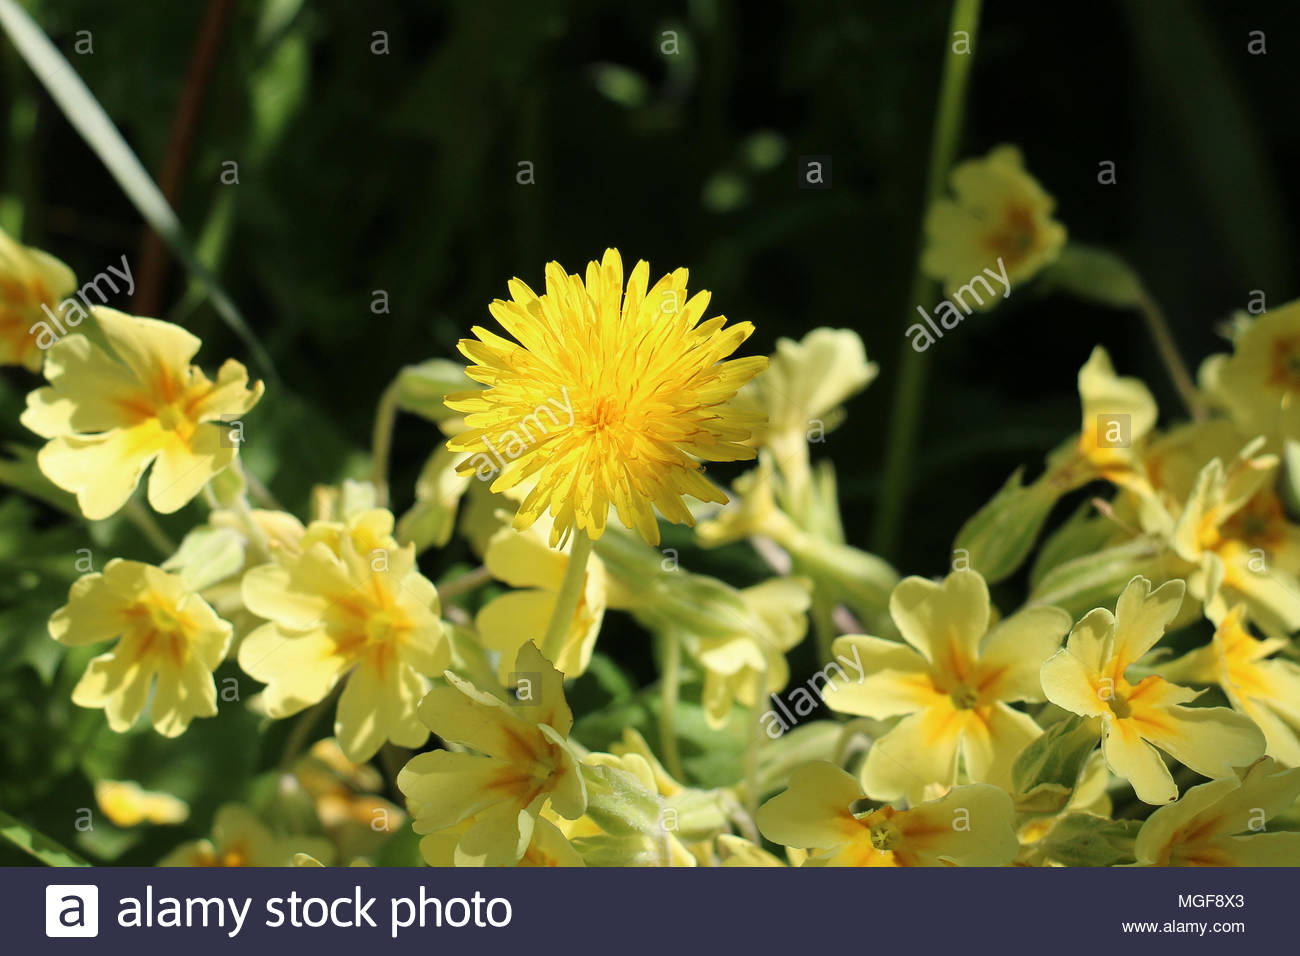dandelion: (445, 275, 749, 535)
